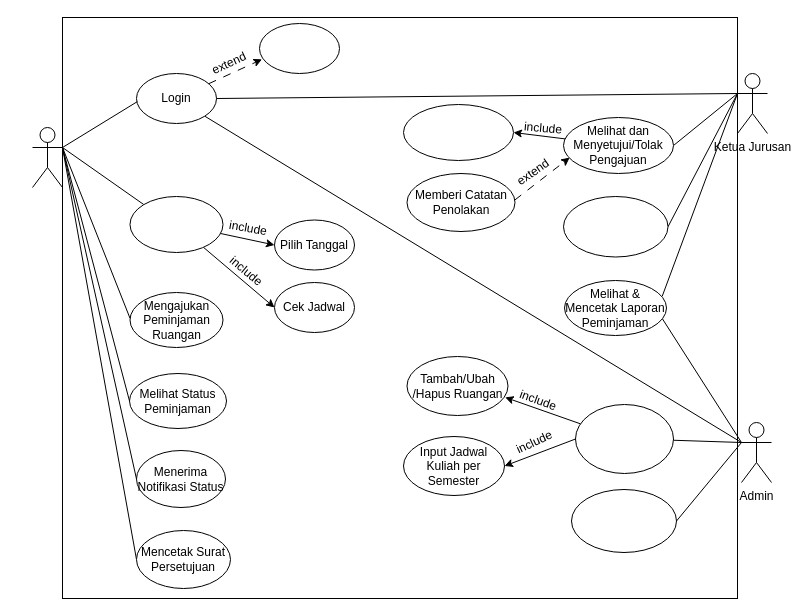
Some shapes in this 808 by 616 pixel diagram are drawn without their labels. Each missing label, with the box of its shape:
Lihat Detail Pengajuan: (402, 104, 514, 160)
Lupa Password: (258, 22, 340, 74)
Mahasiswa: (32, 126, 62, 188)
Melihat Ketersediaan Ruangan: (129, 196, 223, 252)
Memverifikasi Pengajuan Peminjaman: (570, 488, 676, 552)
Mencetak Surat Persetujuan Akhir: (562, 196, 668, 257)
Mengelola Data Ruangan & Jadwal Kuliah: (574, 404, 674, 474)
